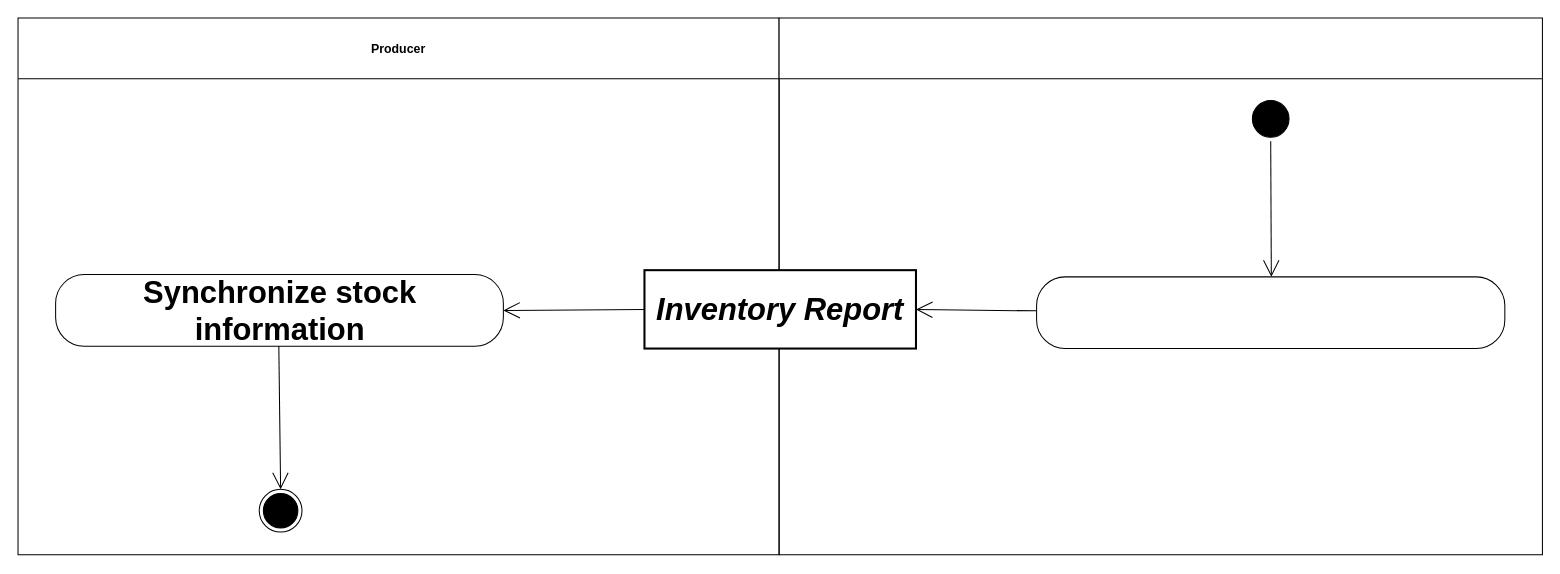
This 1560x574 diagram has some shape labels left out. The box of each missing label's shape, as (x1, y1, x2, y2) in pixels:
Retailer: (778, 17, 1542, 555)
Send information about stock: (1036, 276, 1505, 349)
